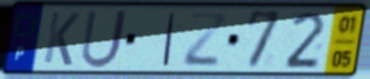2: (281, 10, 328, 70)
7: (246, 8, 283, 72)
I: (160, 11, 178, 68)
K: (40, 10, 82, 68)
U: (78, 7, 131, 71)
Z: (180, 11, 230, 70)
